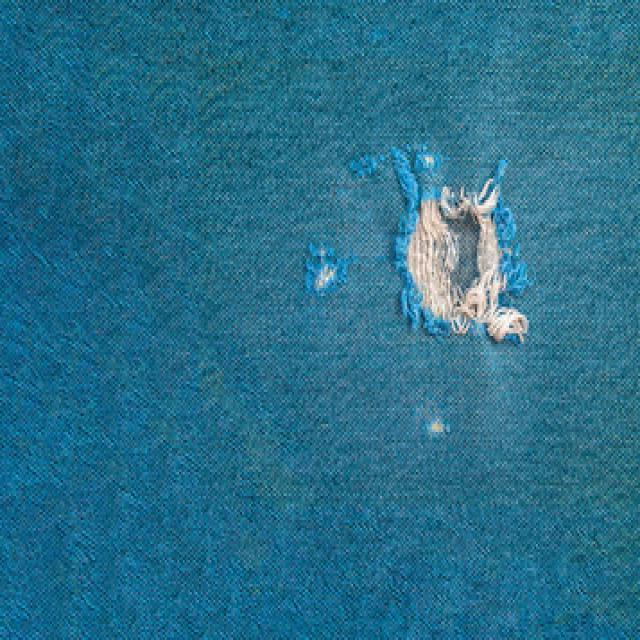Hole: (396, 164, 529, 344), (304, 244, 339, 296), (420, 408, 450, 439)
